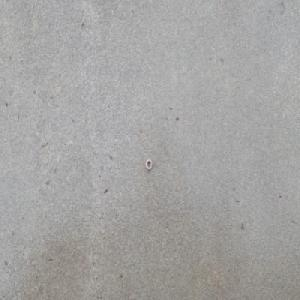Nut: (145, 158, 152, 170)
